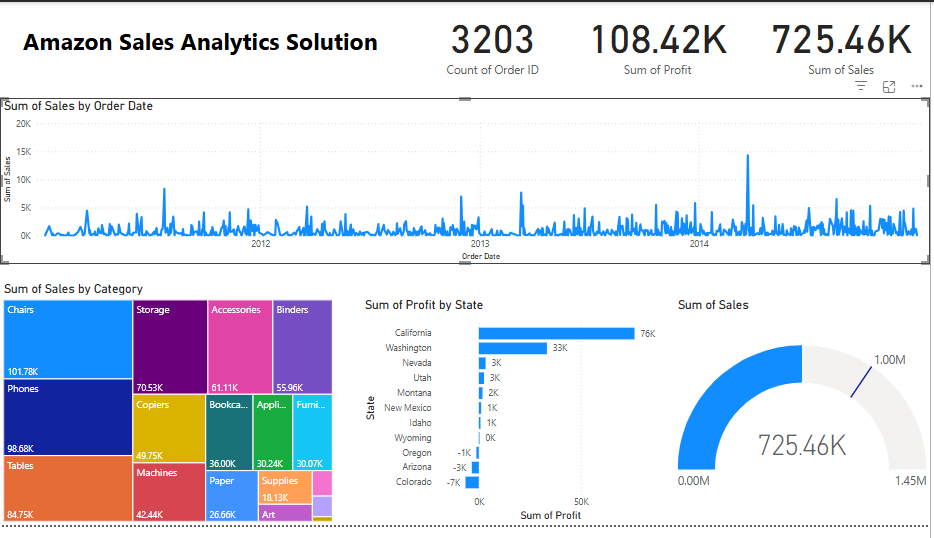

What the dashboard file says about the page in this screenshot:
{"tool":"powerbi","page":{"name":"Page 1","canvas":[1280,720],"ordinal":0},"visuals":[{"type":"card","fields":{"Values":["Sum(Walmart.Sales)"]},"box":[1035,0,245,110.1],"z":0},{"type":"card","fields":{"Values":["Sum(Walmart.Profit)"]},"box":[794.2,0,221.6,110.1],"z":1000},{"type":"card","fields":{"Values":["CountNonNull(Walmart.Order ID)"]},"box":[551.9,0,251.9,110.1],"z":2000},{"type":"lineChart","fields":{"Category":["Walmart.Order Date"],"Y":["Sum(Walmart.Sales)"]},"box":[0,132.1,1280,228.5],"z":2001},{"type":"treemap","fields":{"Group":["Walmart.Category"],"Values":["Sum(Walmart.Sales)"]},"box":[0,384,462.5,335.8],"z":2002},{"type":"barChart","fields":{"Category":["Walmart.State"],"Y":["Sum(Walmart.Profit)"]},"box":[496.9,406,430.8,313.8],"z":2003},{"type":"gauge","fields":{"Y":["Sum(Walmart.Sales)"]},"box":[927.7,406,352.3,313.8],"z":2004},{"type":"textbox","box":[0,26.2,551.9,74.3],"z":2005}]}

Visuals, with their boxes in screenshot pixels (x1, y1, x2, y2), scaled from the page's 1280x720 canvas onto the 934x538 screenshot:
card - Sum(Walmart.Sales): {"x1": 755, "y1": 0, "x2": 933, "y2": 82}
card - Sum(Walmart.Profit): {"x1": 580, "y1": 0, "x2": 741, "y2": 82}
card - CountNonNull(Walmart.Order ID): {"x1": 403, "y1": 0, "x2": 587, "y2": 82}
lineChart - Walmart.Order Date x Sum(Walmart.Sales): {"x1": 0, "y1": 99, "x2": 933, "y2": 269}
treemap - Walmart.Category x Sum(Walmart.Sales): {"x1": 0, "y1": 287, "x2": 337, "y2": 537}
barChart - Walmart.State x Sum(Walmart.Profit): {"x1": 363, "y1": 303, "x2": 677, "y2": 537}
gauge - Sum(Walmart.Sales): {"x1": 677, "y1": 303, "x2": 933, "y2": 537}
textbox: {"x1": 0, "y1": 20, "x2": 403, "y2": 75}
